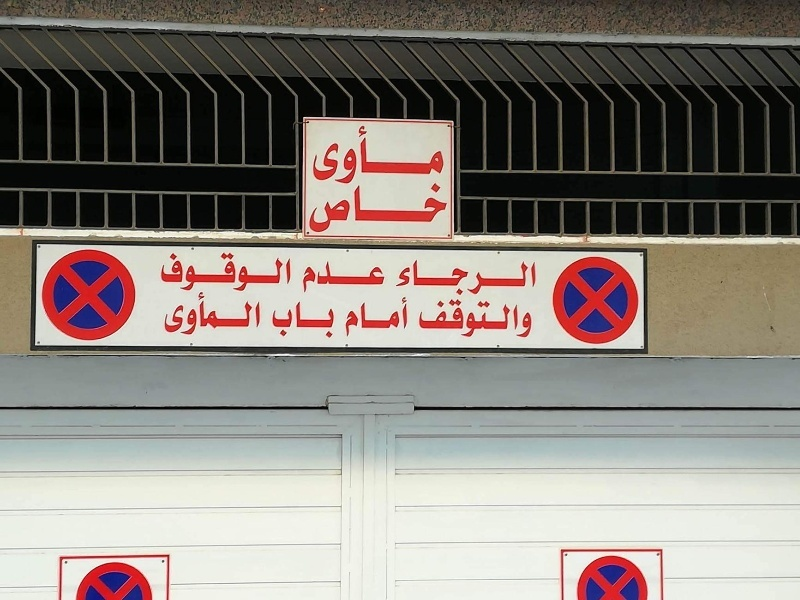text: (321, 119, 336, 188), (337, 119, 352, 188), (353, 119, 368, 188), (369, 119, 384, 188), (385, 119, 400, 188), (401, 119, 416, 188), (417, 119, 432, 188), (433, 119, 447, 188), (321, 180, 336, 235), (337, 180, 352, 235), (353, 180, 368, 235), (369, 180, 384, 235), (385, 180, 400, 235), (401, 180, 416, 235), (417, 180, 432, 235), (433, 180, 448, 235), (161, 285, 176, 337), (177, 285, 192, 337), (193, 285, 208, 337), (209, 285, 224, 337), (225, 285, 240, 337), (241, 285, 256, 337), (161, 250, 176, 299), (177, 250, 192, 299), (193, 250, 208, 299), (209, 250, 224, 299), (225, 250, 240, 299), (241, 250, 256, 299), (257, 250, 272, 299), (273, 250, 288, 299), (310, 119, 320, 188), (353, 295, 368, 338), (369, 295, 384, 338), (385, 295, 400, 338), (309, 180, 320, 235), (433, 299, 448, 339), (449, 299, 464, 339), (465, 299, 480, 339), (481, 299, 496, 339), (497, 299, 512, 339), (513, 299, 528, 339), (273, 301, 288, 341), (289, 301, 304, 341), (305, 301, 320, 341), (321, 301, 336, 341), (418, 299, 432, 339), (401, 260, 416, 296), (417, 260, 432, 296), (433, 260, 448, 296), (449, 260, 464, 296), (465, 260, 480, 296), (481, 260, 496, 296), (497, 260, 512, 296), (513, 260, 528, 296), (305, 259, 320, 295), (321, 259, 336, 295), (337, 259, 352, 295), (353, 259, 368, 295), (369, 259, 384, 295), (401, 295, 411, 338), (257, 285, 265, 337), (529, 260, 538, 296), (529, 299, 535, 339), (347, 295, 352, 338), (299, 259, 304, 295), (157, 250, 160, 299), (289, 250, 292, 299), (397, 260, 400, 296), (385, 259, 387, 295)
